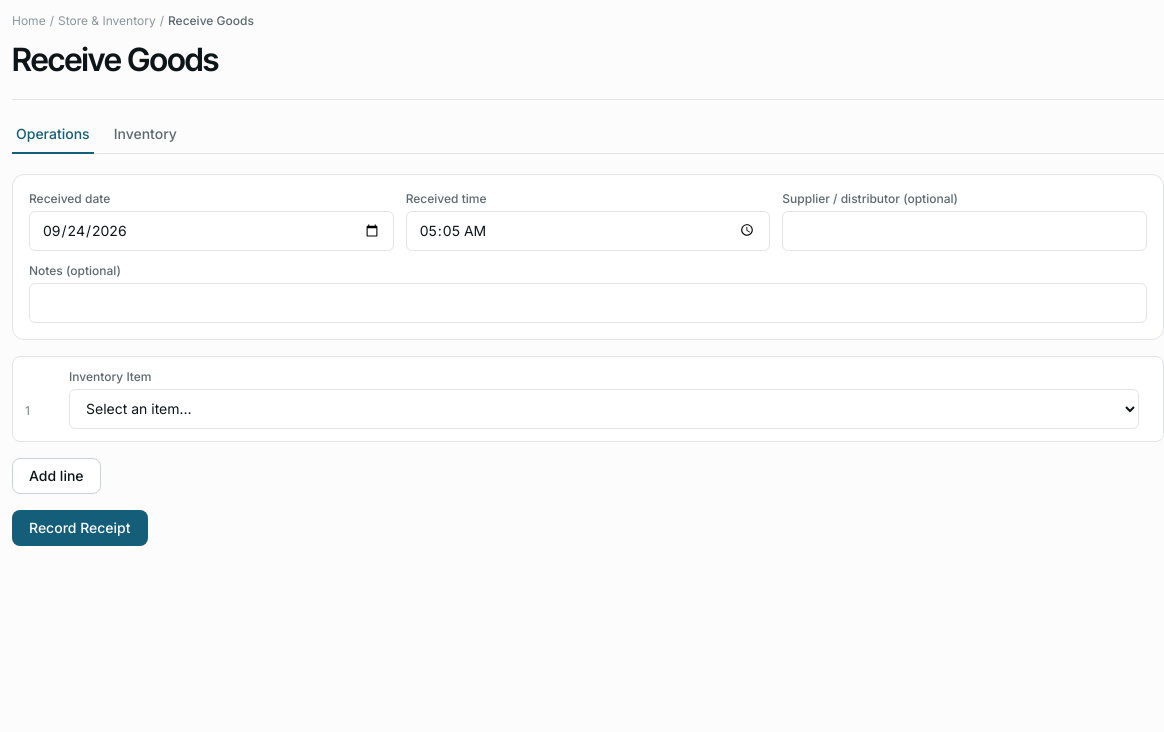
Test: ReceiveGoodsPage › blocks submission and shows an error when no item is selected on the only line
expect the dropdown labelled "Inventory Item" is shown: met, box [69,389,1139,429]
Click the button "Record Receipt" at (80, 528), box [12,510,148,546]
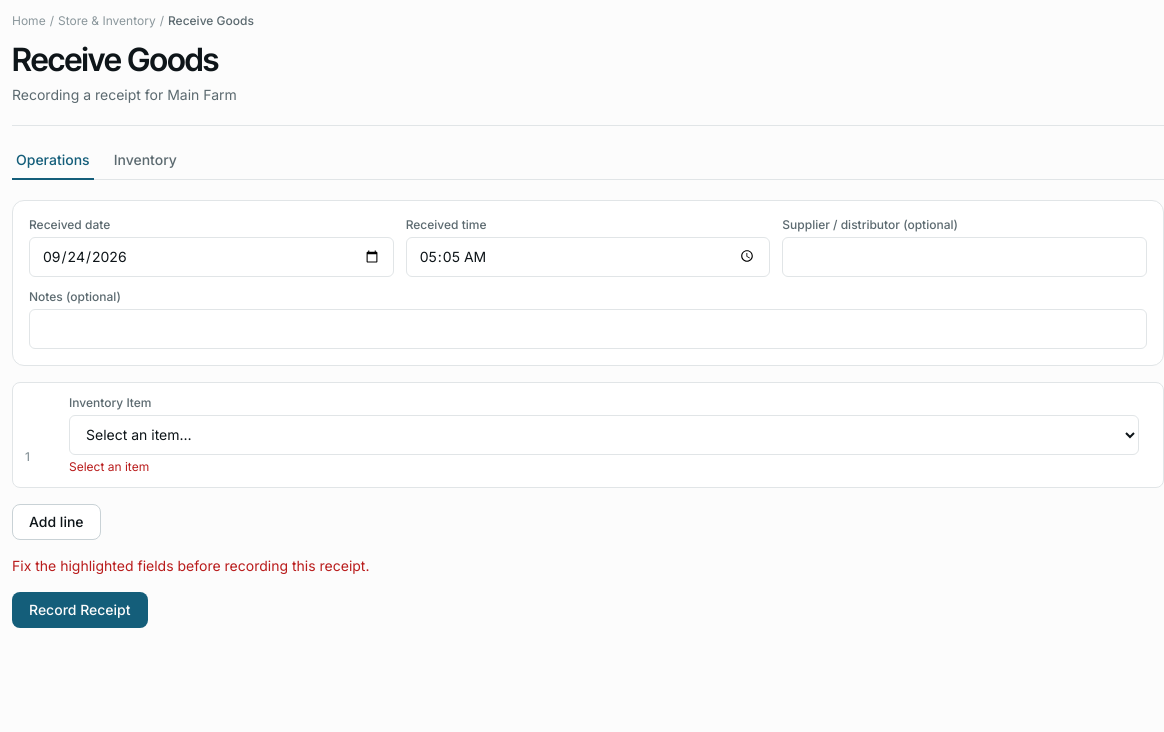
expect the text "Select an item" is shown: met, box [69,459,149,474]
